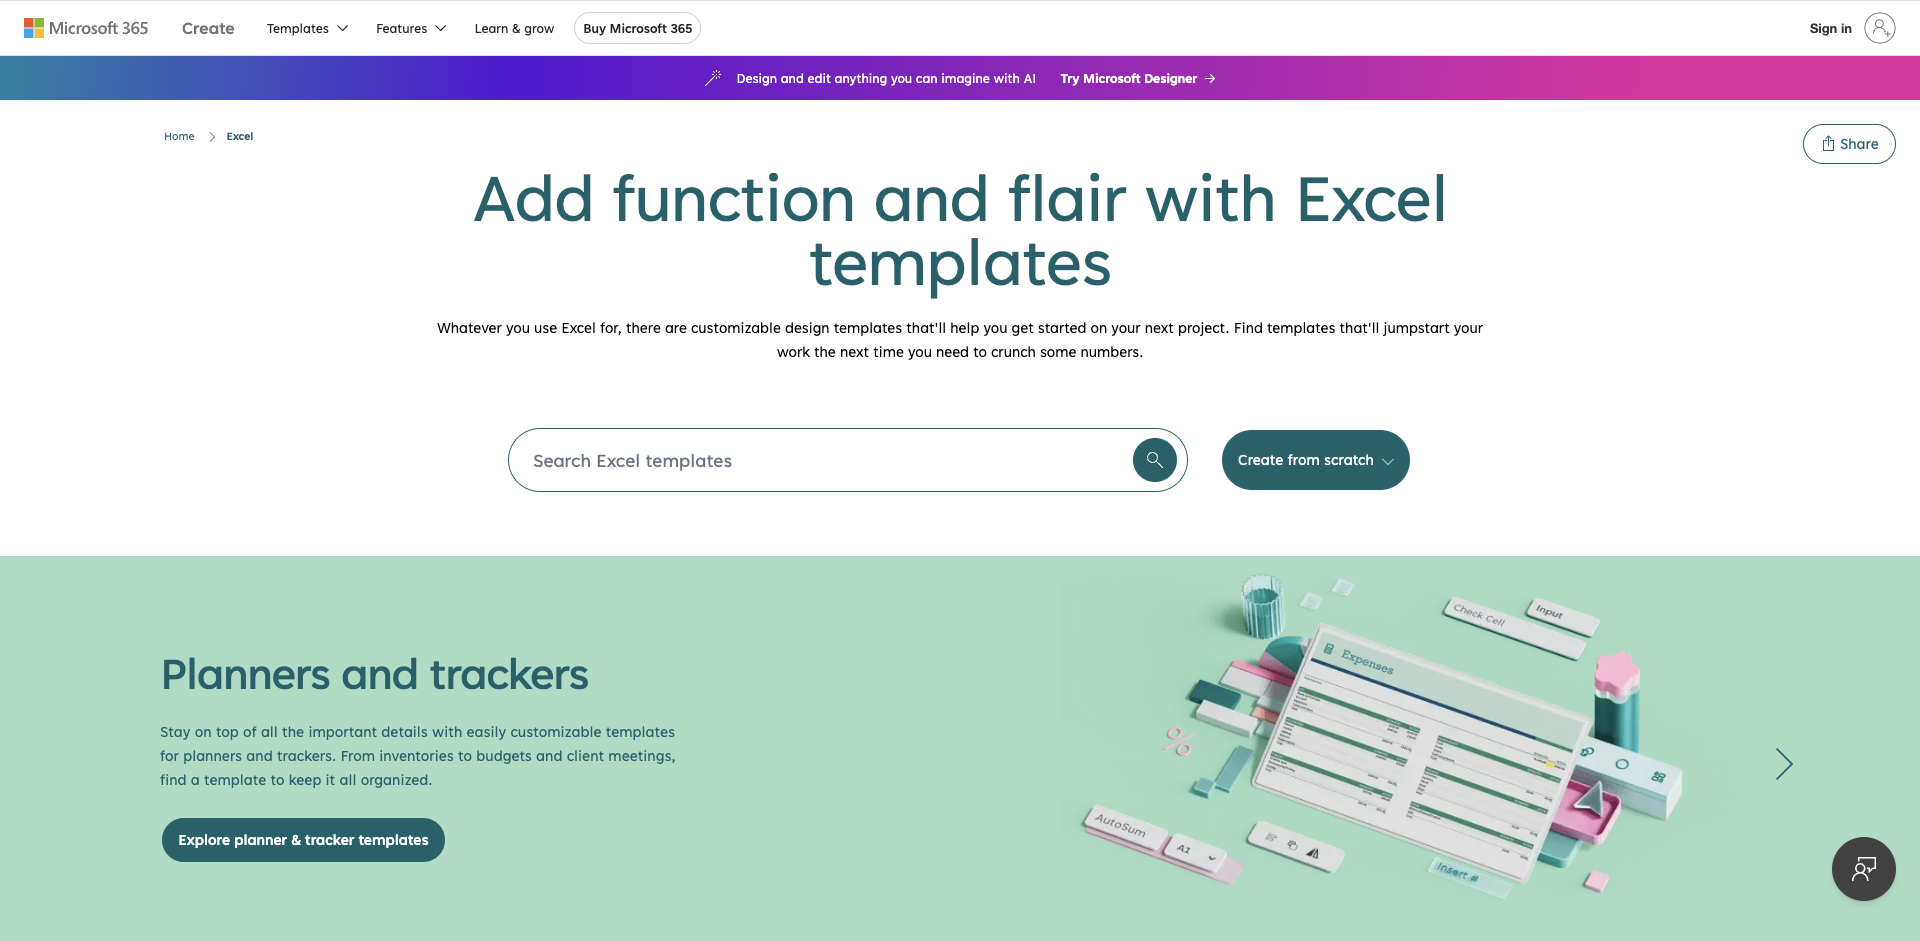button: (160, 816, 447, 864), (1220, 429, 1412, 493), (1768, 816, 1920, 864), (162, 828, 444, 853), (1798, 4, 1904, 51), (1044, 66, 1232, 91), (574, 12, 702, 44), (1752, 733, 1816, 796), (1832, 837, 1896, 901), (1802, 124, 1896, 164), (1771, 828, 1920, 853), (258, 10, 356, 47), (467, 10, 562, 47), (369, 10, 454, 47), (1131, 436, 1179, 484), (267, 18, 329, 38), (376, 18, 427, 38), (1851, 856, 1876, 881), (1095, 448, 1116, 472)
icon: (0, 0, 1, 1), (0, 0, 1, 1)
input: (533, 429, 1079, 491)
link: (24, 16, 149, 40), (182, 17, 235, 38), (164, 124, 195, 148)
